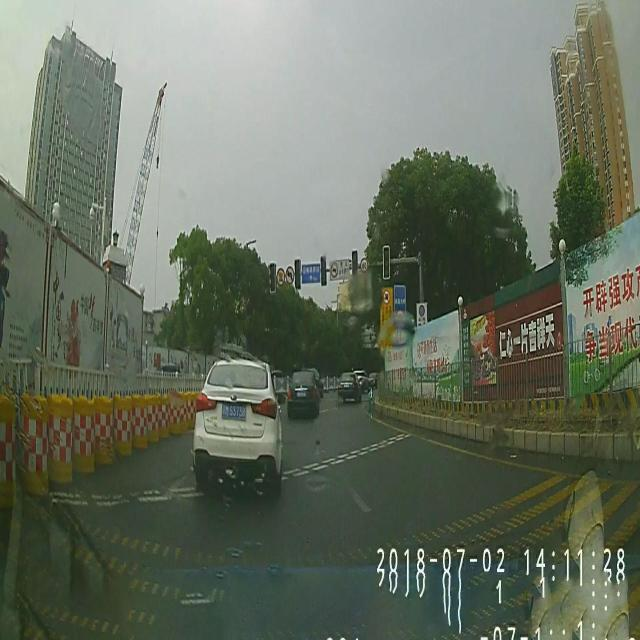car: (192, 360, 280, 495), (286, 371, 318, 418), (336, 371, 362, 404), (356, 368, 369, 388)
